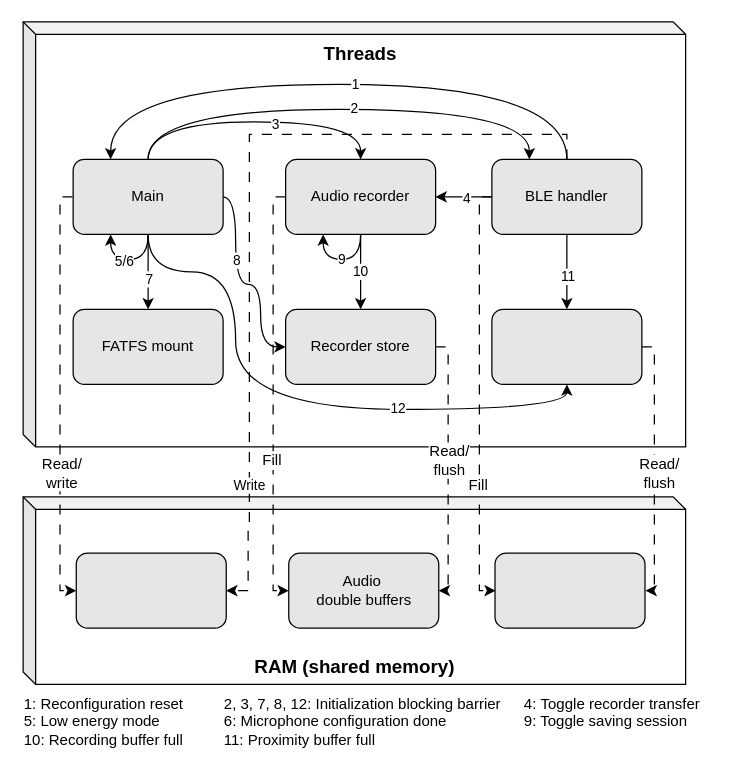
This 743x781 diagram has some shape labels left out. Each missing label, with the box of its shape:
Proximity detection double buffers: (494, 552, 645, 628)
Proximity store: (491, 308, 642, 384)
System state variables: (75, 552, 226, 628)
